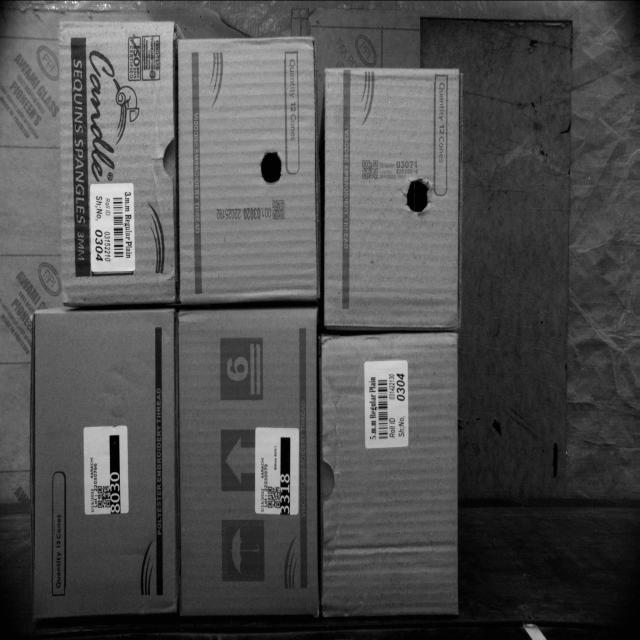cardboxes: (32, 311, 179, 626), (181, 306, 321, 626), (322, 331, 460, 623), (322, 66, 464, 329), (181, 35, 318, 306), (59, 18, 178, 305)
